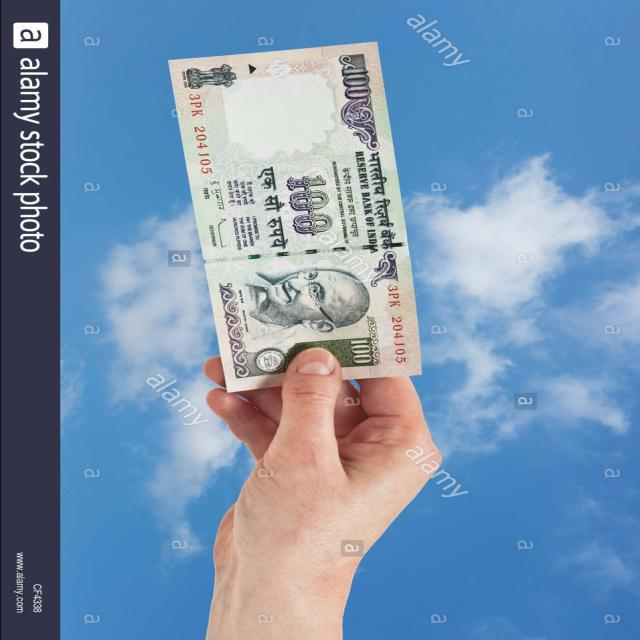100IndianRupees: (168, 39, 422, 396)
